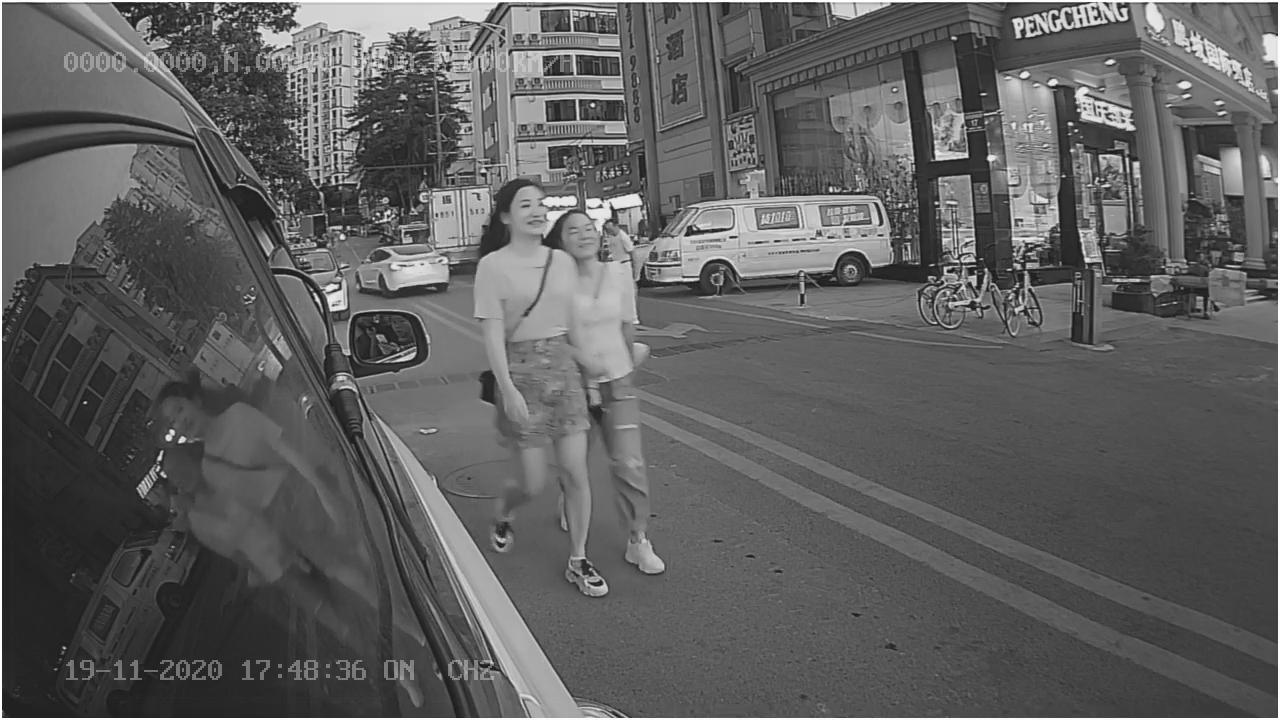person: (465, 180, 592, 533)
